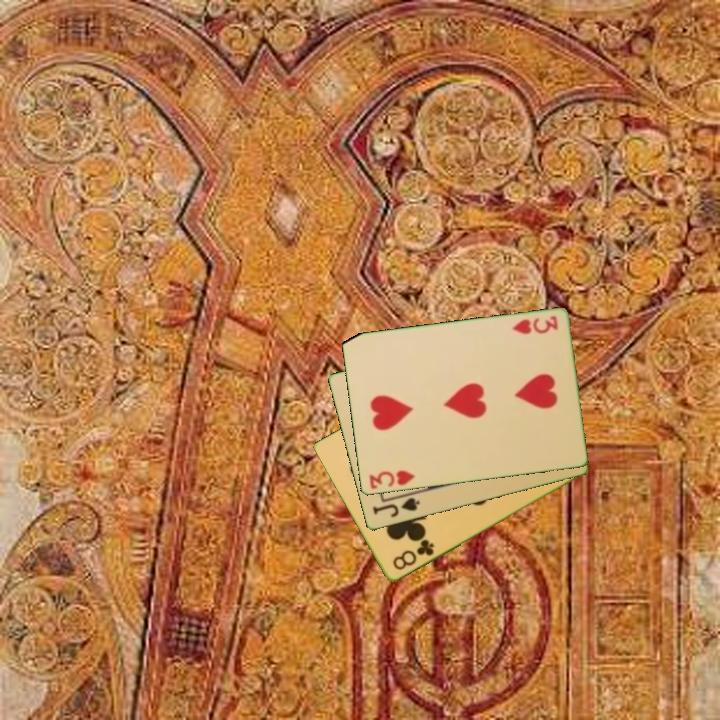3h: (365, 467, 418, 492), (508, 313, 561, 338)
8c: (389, 536, 437, 573)
Js: (369, 494, 422, 521)
